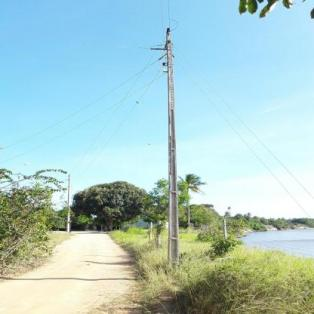Poste: (162, 27, 184, 261)
